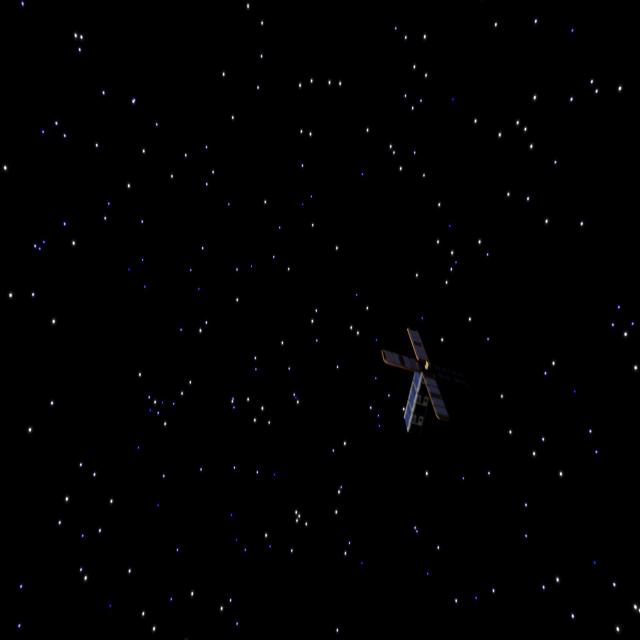satellite: (380, 332, 456, 438)
